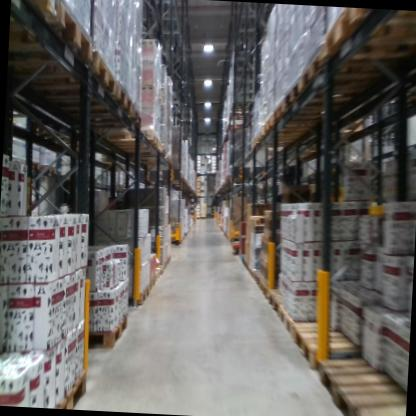pallet: (8, 0, 97, 73), (317, 346, 407, 416), (302, 44, 413, 100), (11, 48, 118, 105), (32, 70, 136, 123), (323, 10, 416, 58), (289, 317, 355, 381), (281, 73, 364, 116), (78, 305, 133, 357), (49, 367, 91, 409), (273, 100, 326, 132), (100, 124, 161, 151), (10, 0, 59, 30), (267, 286, 309, 321), (276, 304, 314, 340), (353, 403, 406, 416), (17, 151, 45, 171), (248, 212, 270, 230), (133, 281, 150, 304), (42, 161, 60, 177), (147, 274, 158, 290)
